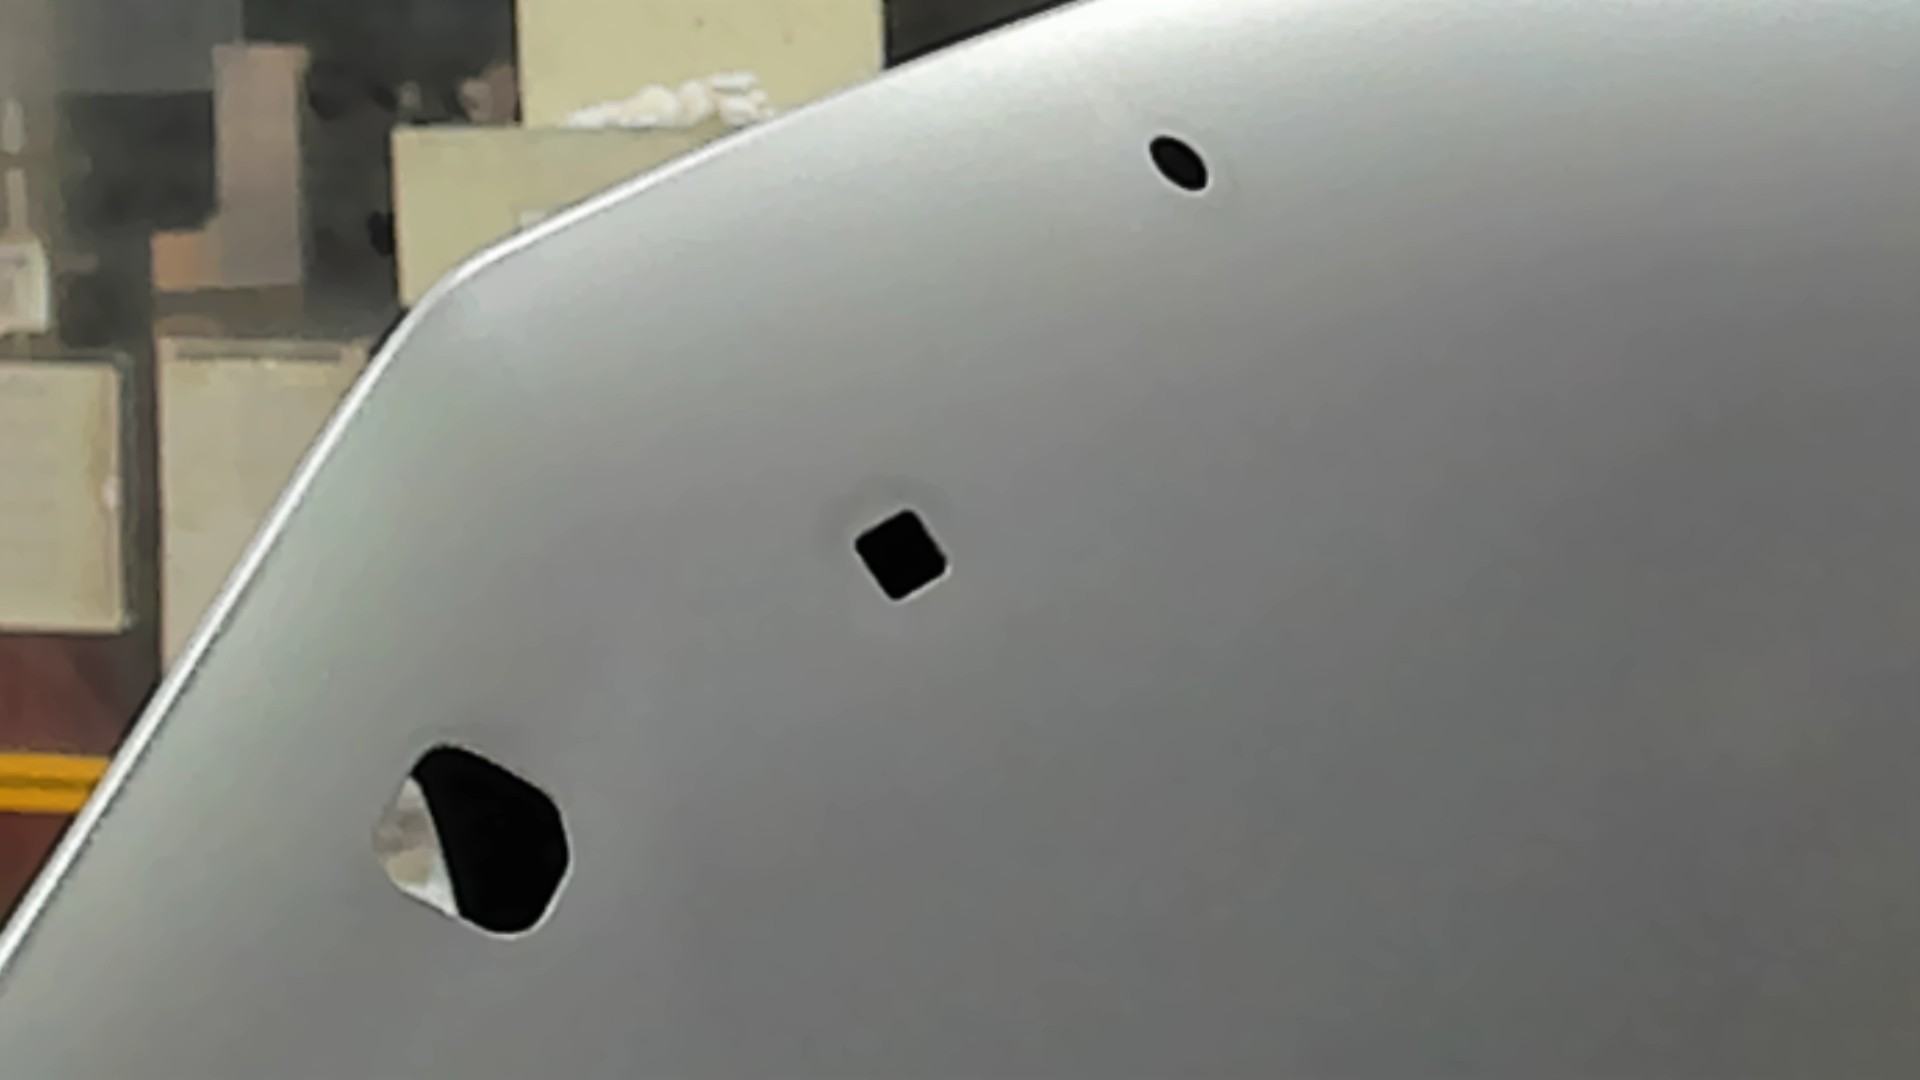chico: (1141, 124, 1215, 194)
grande: (364, 733, 578, 949)
mediano: (845, 502, 953, 609)
